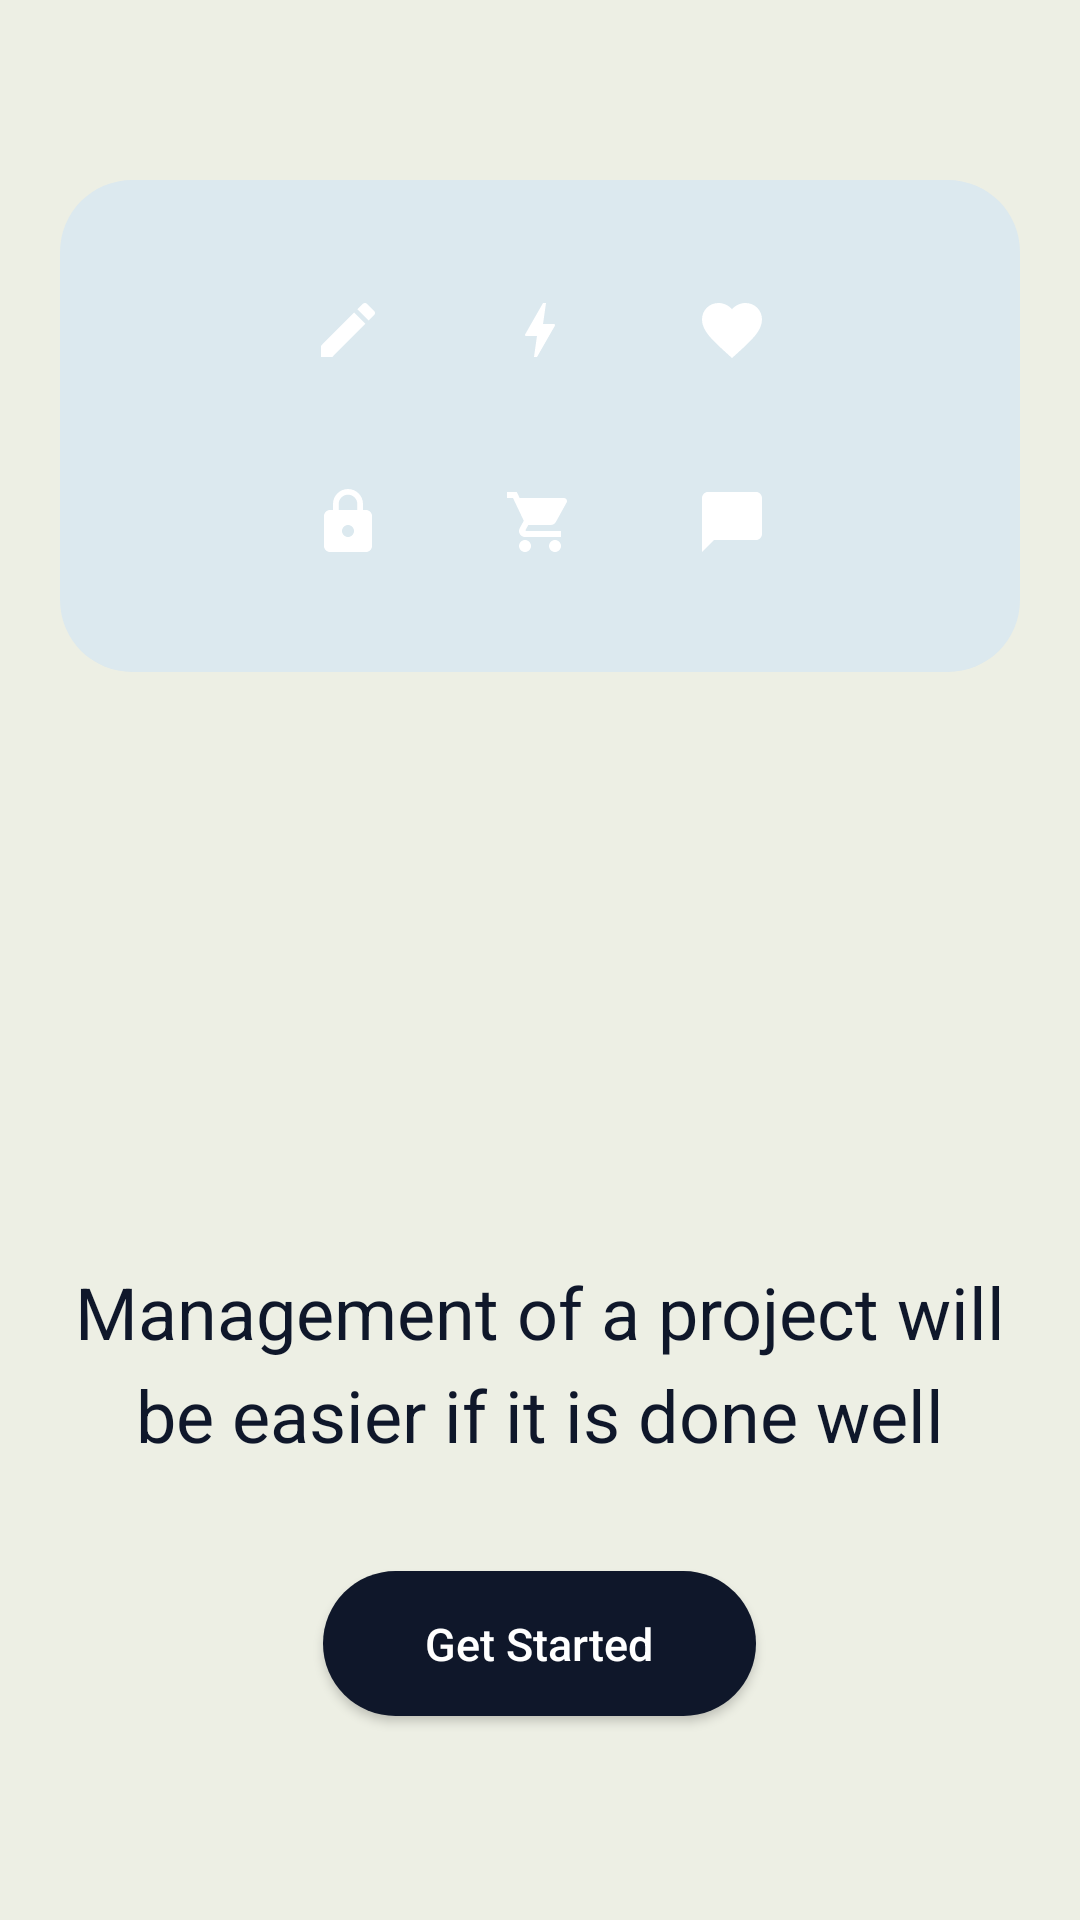

Locate icon controls on the screen. Image size 1080x1920, boxes as bbox=(x1, y1, x2, y2).
bolt: bbox=(525, 303, 555, 357)
cart: bbox=(507, 492, 567, 552)
edit: bbox=(321, 303, 375, 357)
heart: bbox=(702, 303, 762, 357)
lock: bbox=(324, 489, 372, 552)
